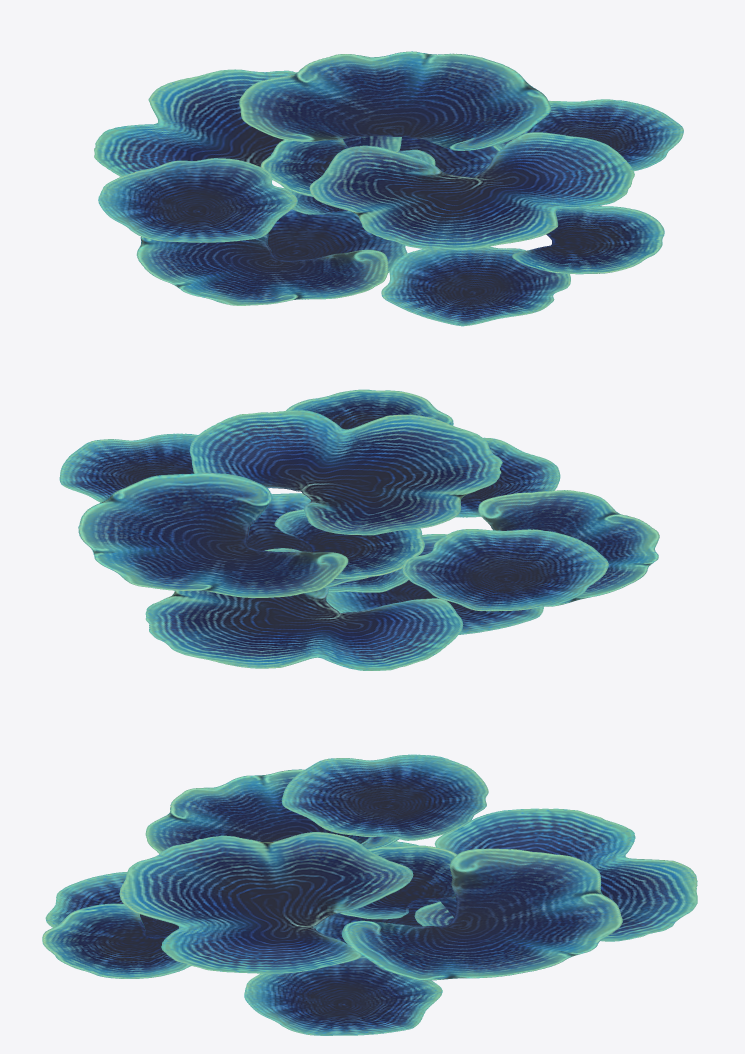
3 views of the same model, one above another, from view 1: azimuth 30°, elevation 25°; view 2: azimuth 150°, elevation 25°; view 3: azimuth 270°, elevation 25° (orthographic). The views are drawn at different scales.
Visible parts, largest first — view 1: sc07; view 2: sc07; view 3: sc07.
Boxes of the visible parts, bbox=[...] form: sc07: bbox=[94, 51, 683, 326]; sc07: bbox=[59, 389, 659, 670]; sc07: bbox=[42, 754, 697, 1035].
Size of the model in its own units: 379 by 42.01 by 380.
